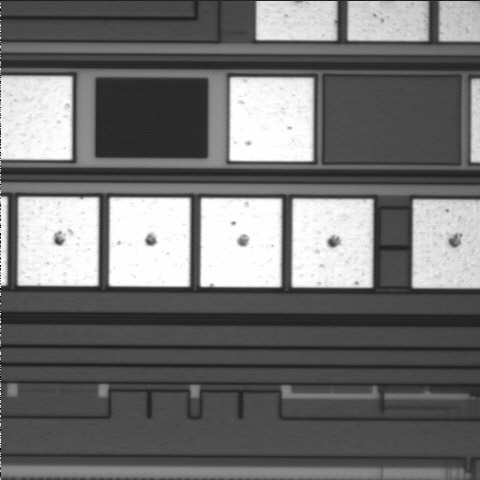pad: (200, 198, 282, 287), (18, 197, 99, 286), (109, 198, 190, 287), (292, 199, 373, 288), (229, 77, 314, 161)
